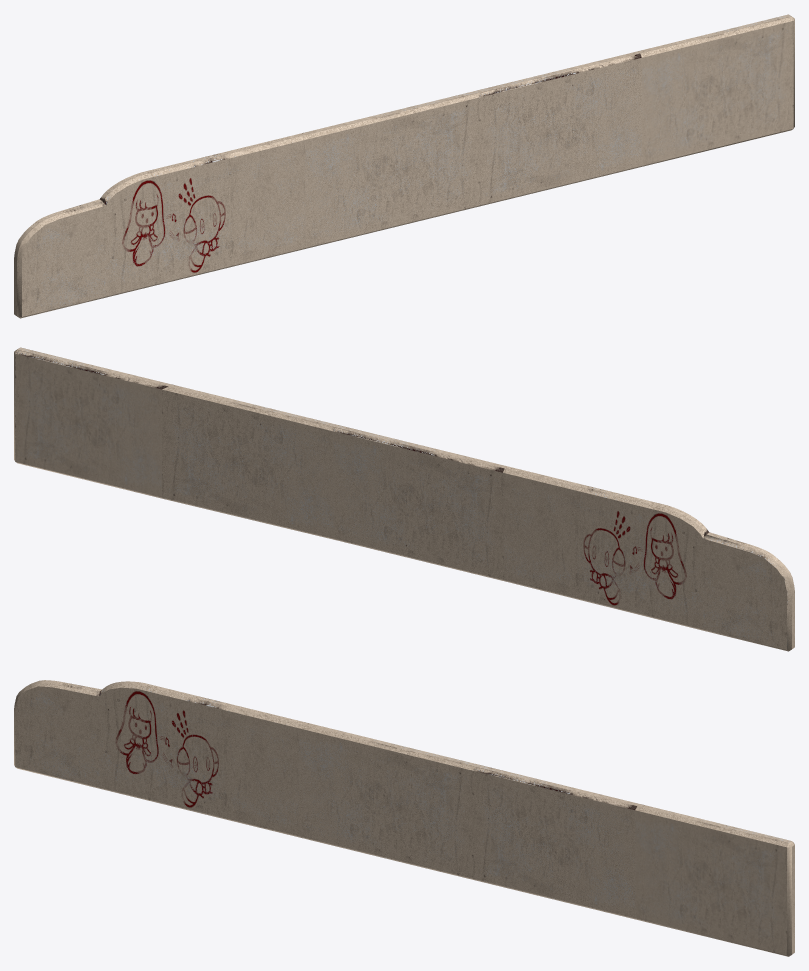
Rendered from Wall10_Fix.FBX.
The picture shows the model from 3 angles, top to bottom: view 1: azimuth 30°, elevation 25°; view 2: azimuth 150°, elevation 25°; view 3: azimuth 330°, elevation 25°; orthographic projection.
Visible parts, largest first — view 1: Wall10; view 2: Wall10; view 3: Wall10.
Boxes of the visible parts, x1,y1,x2,y2 form: Wall10: (14,14,794,318); Wall10: (14,347,794,651); Wall10: (14,680,794,956).
Size of the model in its own units: 2358 by 329 by 35.
